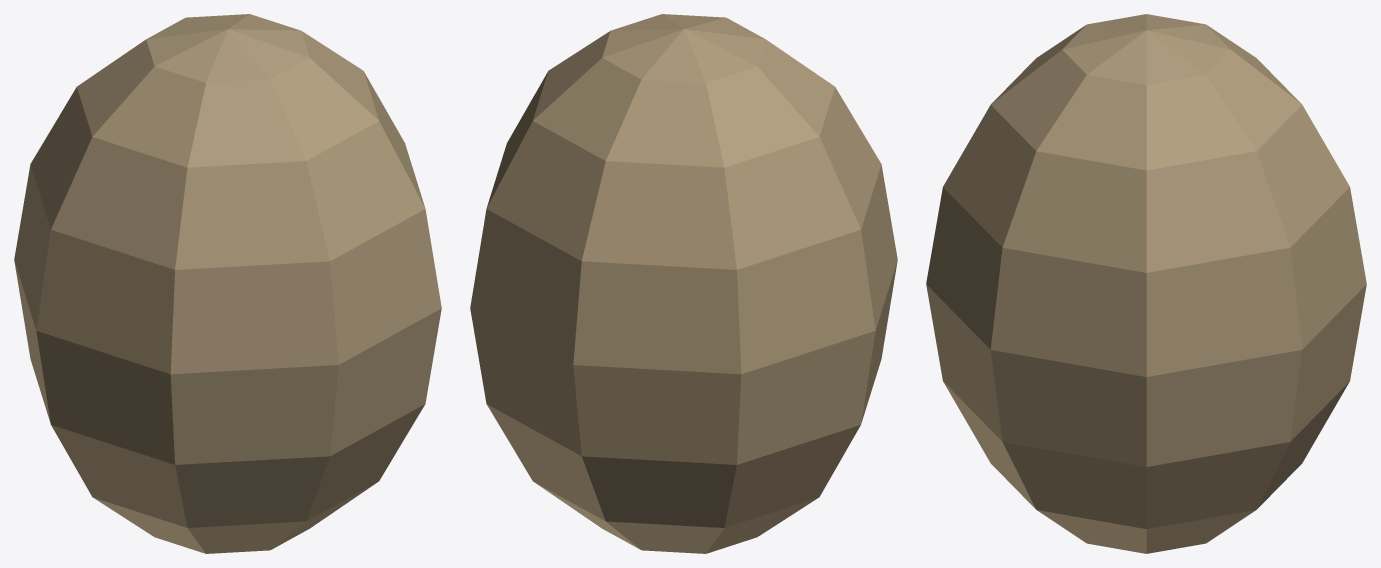
The model's file is Egg.fbx.
3 renders of one model, left to right at view 1: azimuth 30°, elevation 25°; view 2: azimuth 150°, elevation 25°; view 3: azimuth 270°, elevation 25°, orthographic.
Parts seen in each view (by area): view 1: pSphere1; view 2: pSphere1; view 3: pSphere1.
Part boxes in pixels (x1,y1,x2,y2): pSphere1: (14,14,441,553); pSphere1: (470,14,897,553); pSphere1: (926,14,1366,553).
Bounding box in the file's own units: 0.0185 × 0.0235 × 0.0185.
